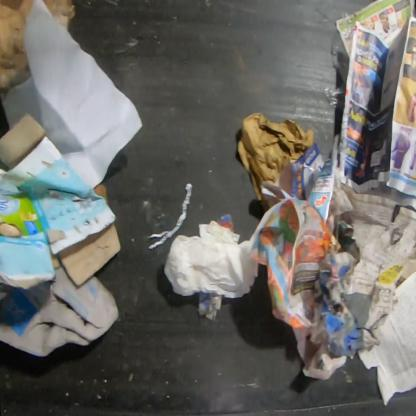cardboard: (0, 114, 122, 290), (0, 0, 75, 92)
soft_plastic: (330, 17, 354, 87), (324, 87, 344, 110)
